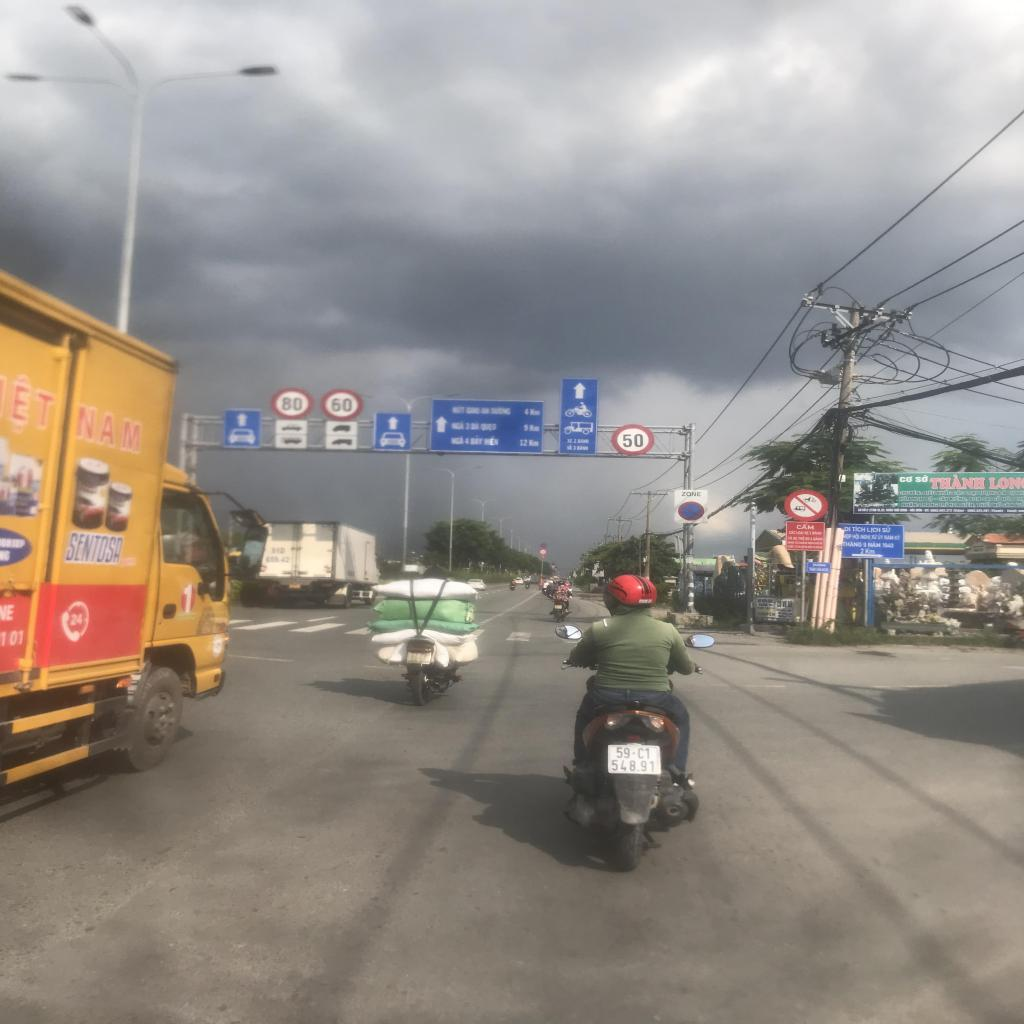cam_cac_loai_xe_3_banh: (783, 490, 830, 522)
cam_do_xe: (679, 501, 704, 521)
cam_dung_xe_va_do_xe: (538, 542, 548, 549)
cam_o_to: (223, 409, 261, 448), (374, 412, 410, 450)
cam_xe_2_banh_va_xe_3_banh_co_dong_co: (539, 549, 547, 554)
khac: (430, 399, 543, 454), (559, 378, 597, 454), (276, 420, 308, 435), (275, 434, 307, 449), (326, 421, 358, 436), (326, 435, 357, 450)
toc_do_toi_da_50: (611, 424, 655, 455)
toc_do_toi_da_60: (322, 389, 363, 421)
toc_do_toi_da_80: (270, 388, 313, 419)
